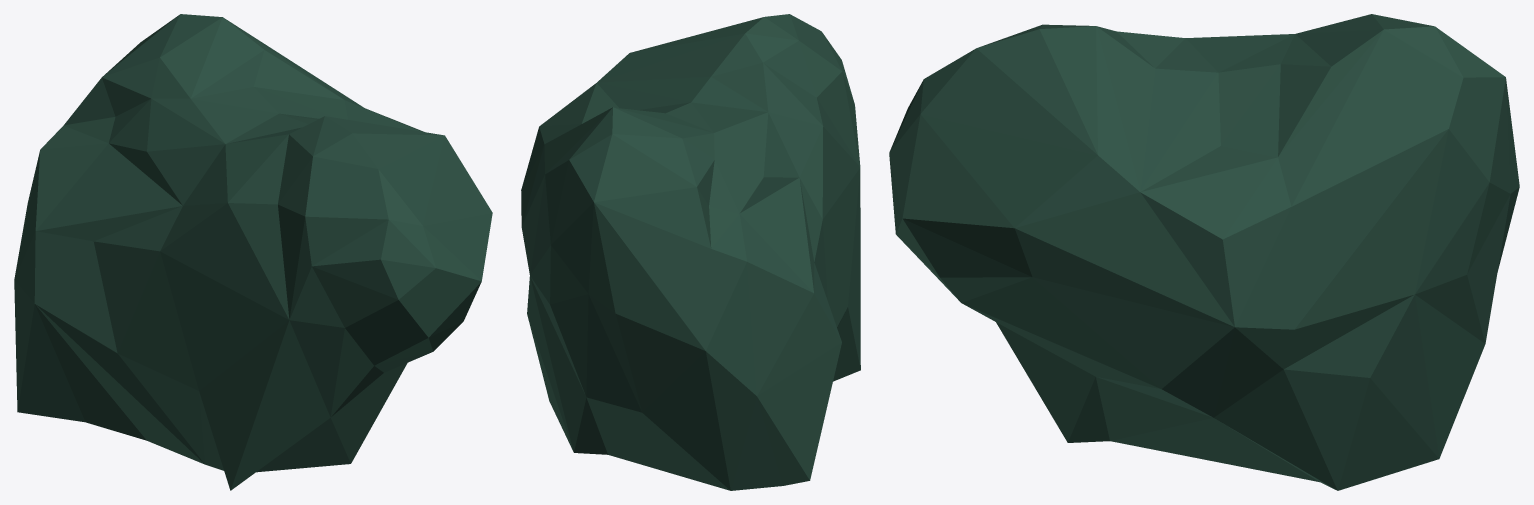
Rendered from SM_large_rock_11.fbx.
3 views of the same model, side by side, from view 1: azimuth 30°, elevation 25°; view 2: azimuth 150°, elevation 25°; view 3: azimuth 270°, elevation 25° (orthographic). The views are drawn at different scales.
Parts seen in each view (by area): view 1: large_rock_11; view 2: large_rock_11; view 3: large_rock_11.
Boxes of the visible parts, bbox=[...] form: large_rock_11: bbox=[14, 14, 492, 490]; large_rock_11: bbox=[521, 14, 860, 490]; large_rock_11: bbox=[889, 14, 1519, 490].
Bounding box in the file's own units: 50.54 × 47.79 × 61.91.
